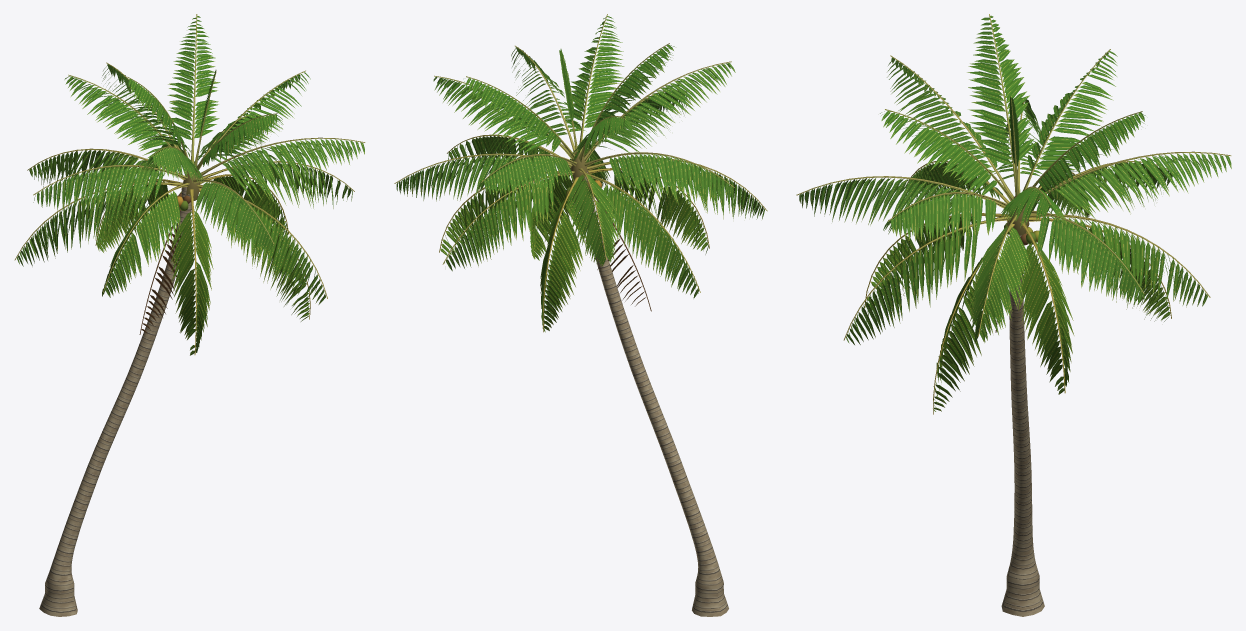
3 views of the same model, side by side, from view 1: azimuth 30°, elevation 25°; view 2: azimuth 150°, elevation 25°; view 3: azimuth 270°, elevation 25° (orthographic). The views are drawn at different scales.
Parts seen in each view (by area): view 1: fronds, trunk, crown_husk; view 2: fronds, trunk, crown_husk; view 3: fronds, trunk.
Boxes of the visible parts, x1,y1,x2,y2 form: fronds: [14, 14, 365, 355]; trunk: [39, 187, 191, 616]; crown_husk: [139, 168, 199, 334]; fronds: [394, 14, 767, 332]; trunk: [585, 171, 728, 616]; crown_husk: [566, 152, 651, 311]; fronds: [796, 14, 1231, 414]; trunk: [1001, 234, 1044, 616].
Size of the model in its own units: 9.3 by 15.66 by 9.87.
Materials: 3 (3 with a texture image).
